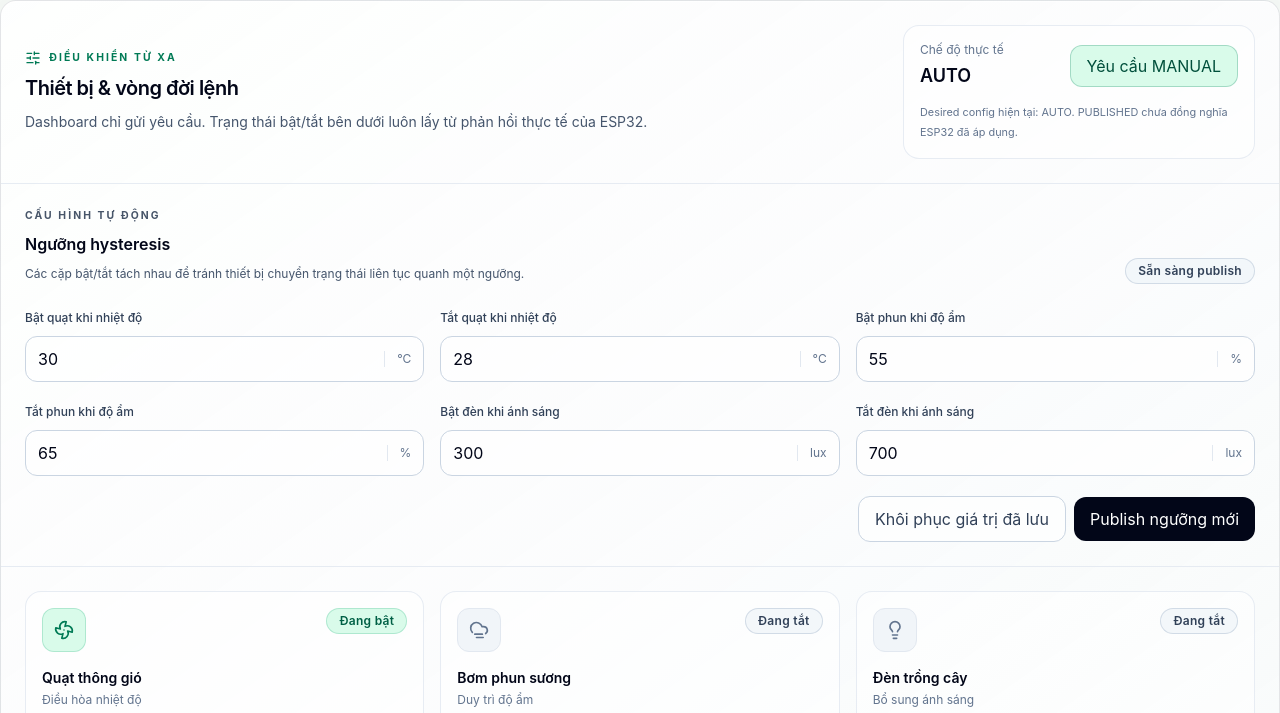
Scenario: ControlPanel › không publish khi cặp ngưỡng hysteresis không hợp lệ
Replace the text in the number field labelled "Bật quạt khi nhiệt độ" with "27" at coordinates (205, 359), box [26,337,384,381]
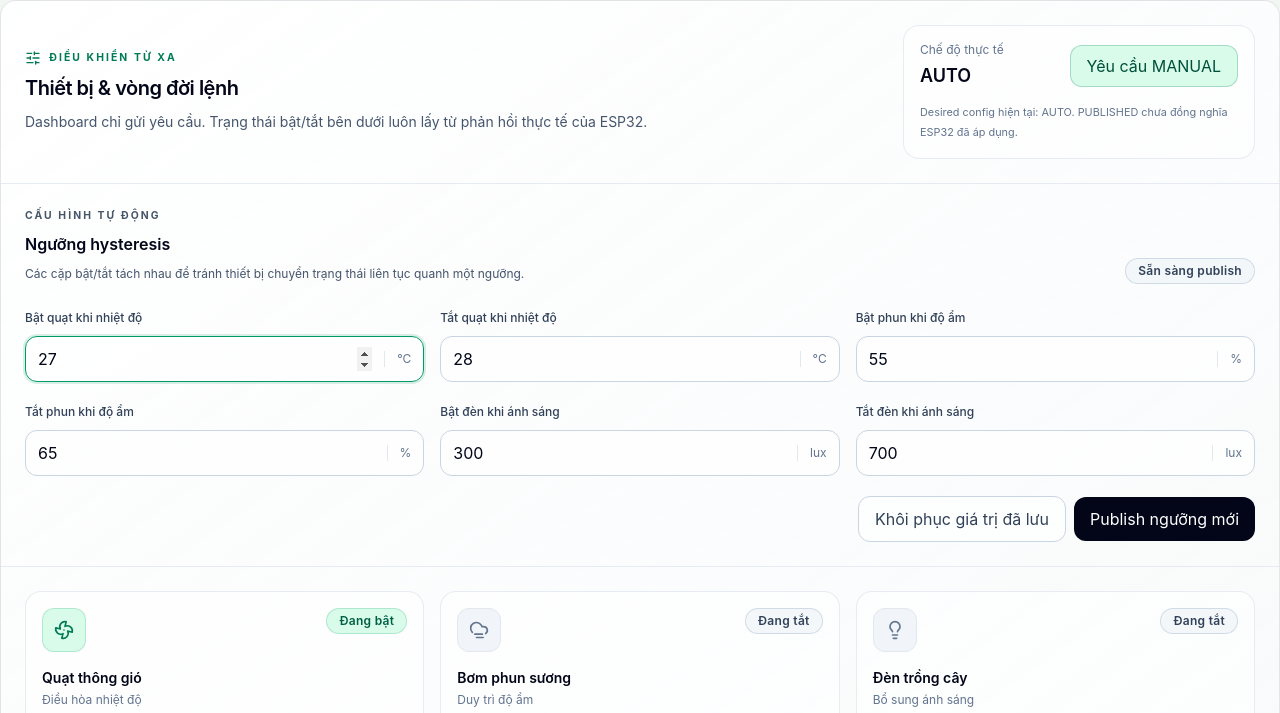
Click the button "Publish ngưỡng mới" at coordinates (1164, 519), box [1074,497,1255,541]
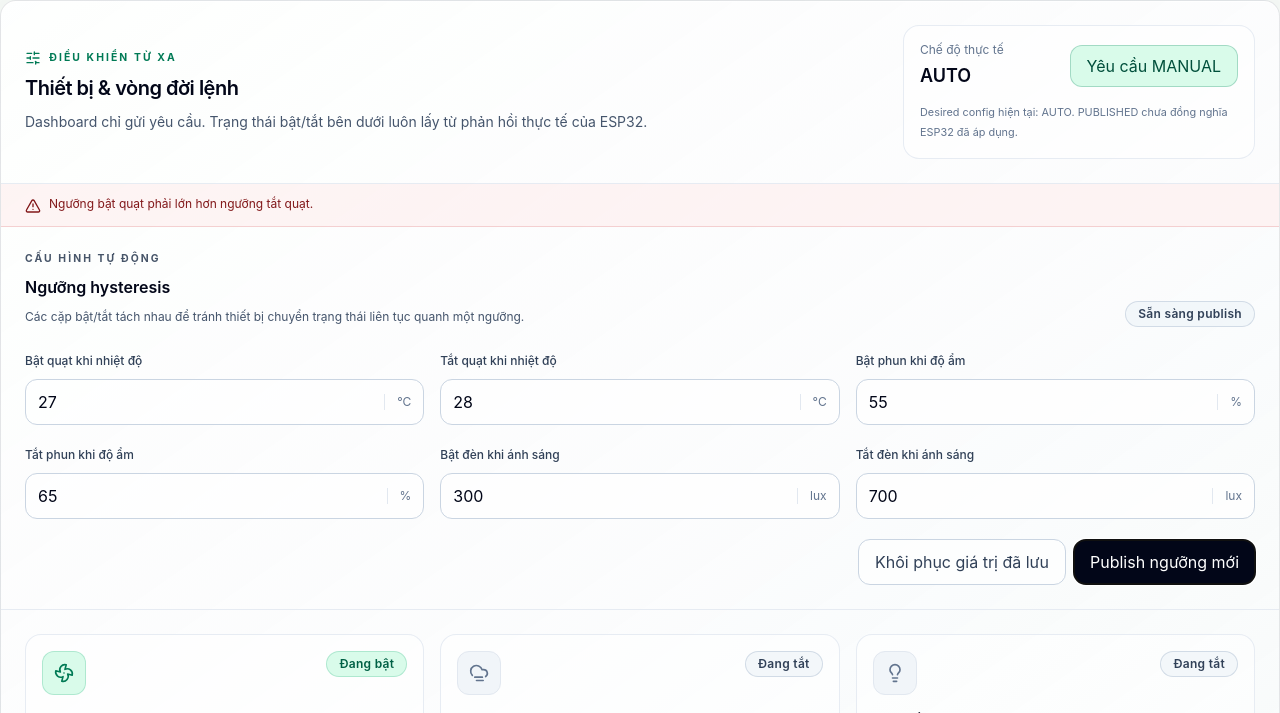
Check: the message reads "Ngưỡng bật quạt phải lớn hơn ngưỡng tắt quạt.", box [49,196,313,211]
